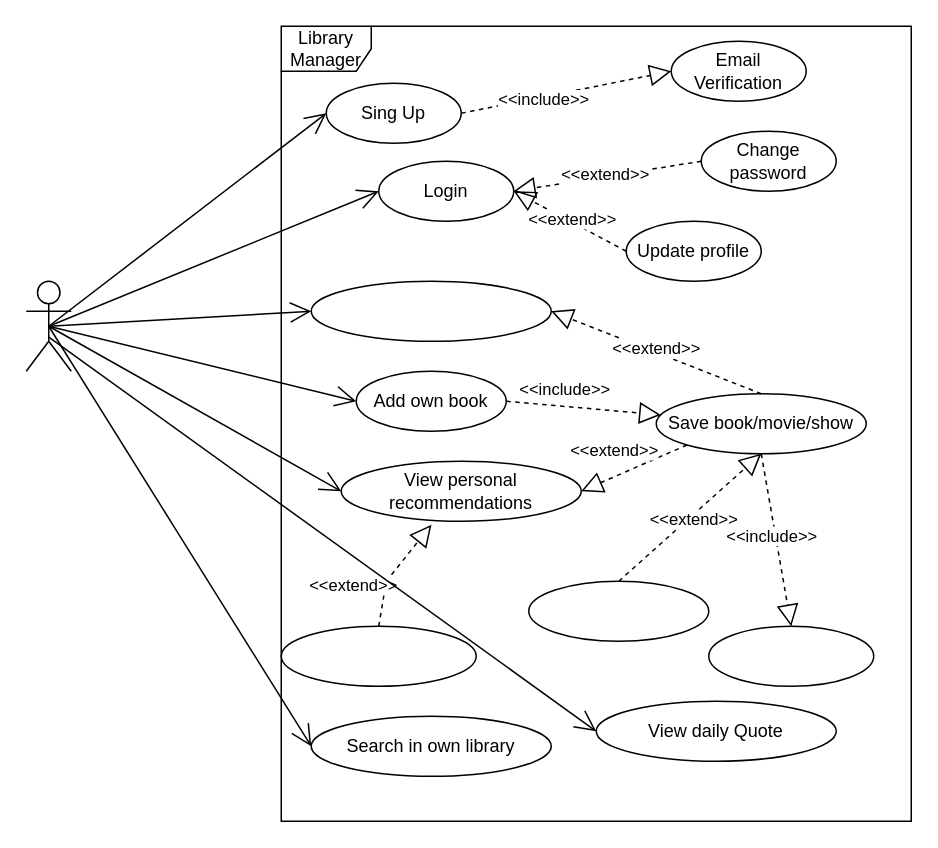
The diagram is 938 pixels wide and 848 high, and some of its shapes have lost their labels. The box of each missing label's shape, as (x1, y1, x2, y2) in pixels:
Browse new book/movie/show: (310, 280, 551, 341)
Choose status: (707, 625, 874, 686)
Filter reccomendations: (280, 625, 476, 686)
Sort saved items: (527, 580, 709, 641)
User: (25, 280, 71, 371)
